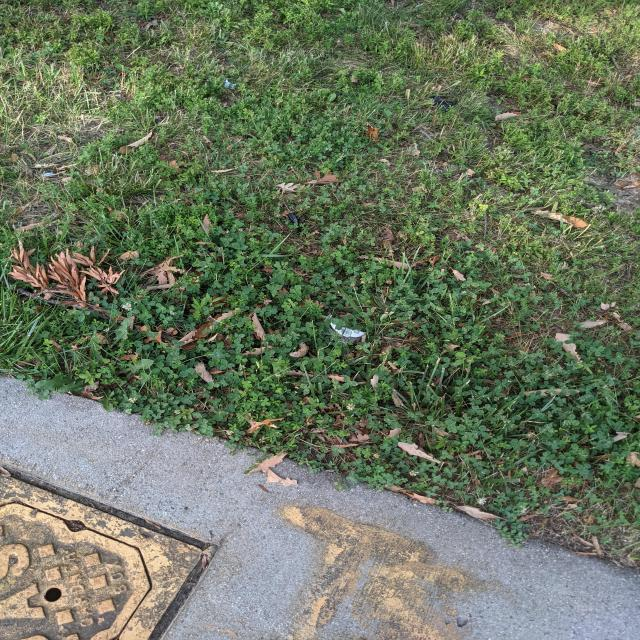litter: (329, 318, 366, 338)
